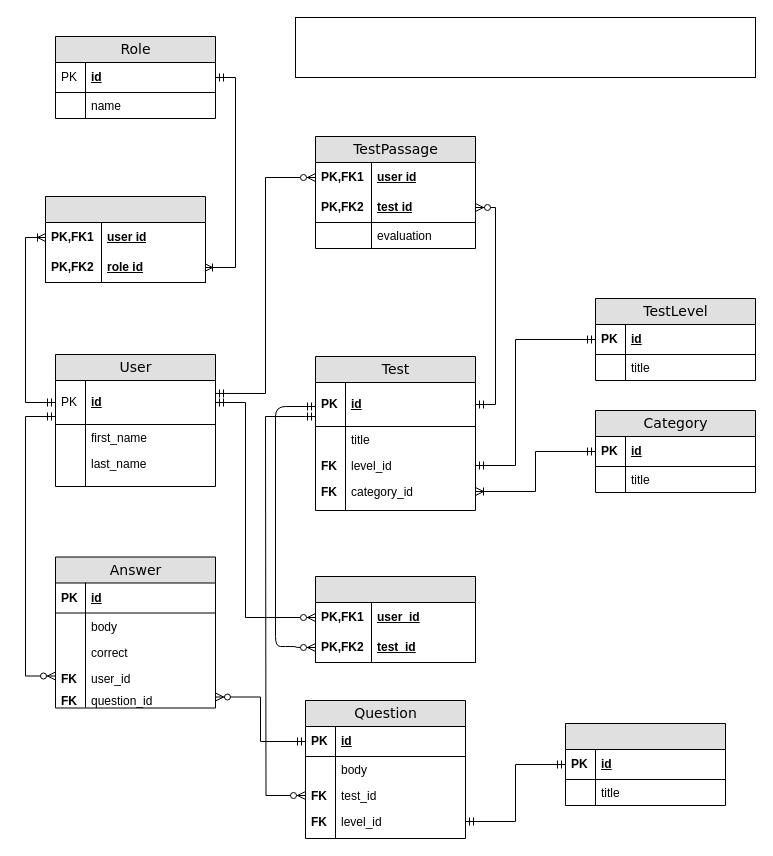
The diagram is 773 pixels wide and 856 high, and some of its shapes have lost their labels. The box of each missing label's shape, as (x1, y1, x2, y2) in pixels:
AuthorTest: (314, 576, 476, 662)
QuestionLevel: (564, 722, 726, 806)
RoleUser: (44, 196, 206, 282)
Схема "Сущность-связь": (294, 16, 756, 78)
